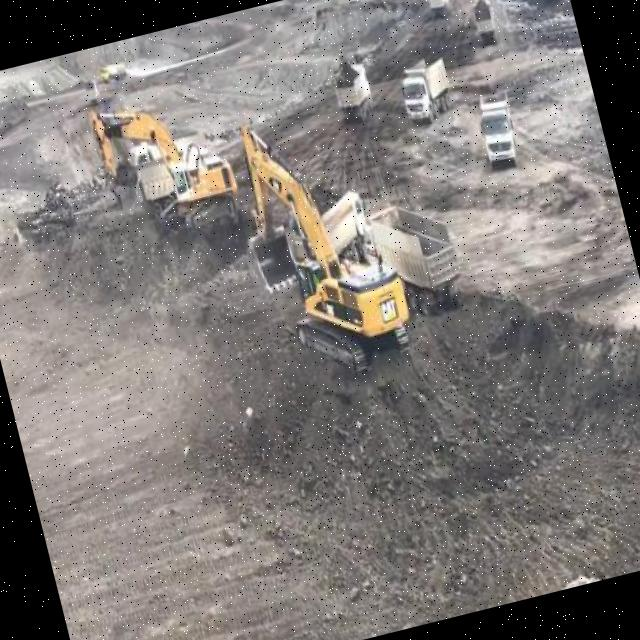Dump Truck: (364, 190, 466, 316), (394, 53, 456, 128), (468, 87, 522, 173), (316, 185, 368, 245), (329, 59, 374, 113), (469, 0, 496, 43), (424, 0, 450, 16)
Excavator: (220, 90, 424, 412), (82, 82, 249, 255)
